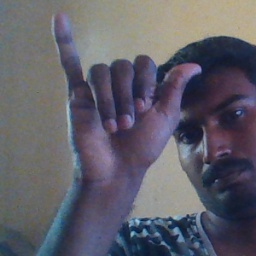J: (50, 11, 203, 174)
